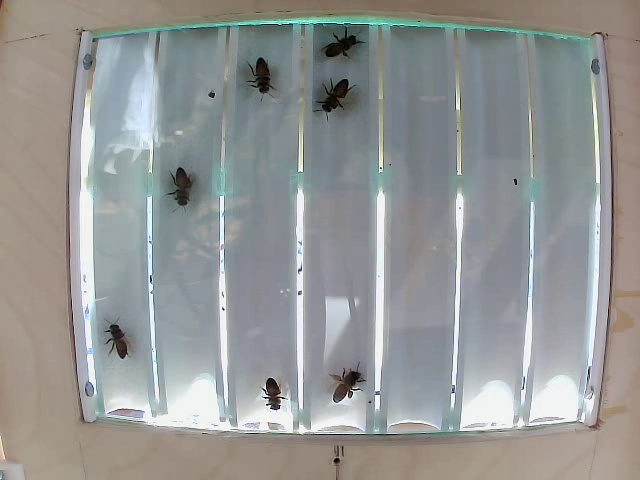bee: (167, 160, 203, 221), (242, 58, 284, 109), (325, 361, 383, 397), (314, 76, 356, 125), (101, 308, 144, 350), (255, 362, 285, 411), (325, 40, 366, 74)
